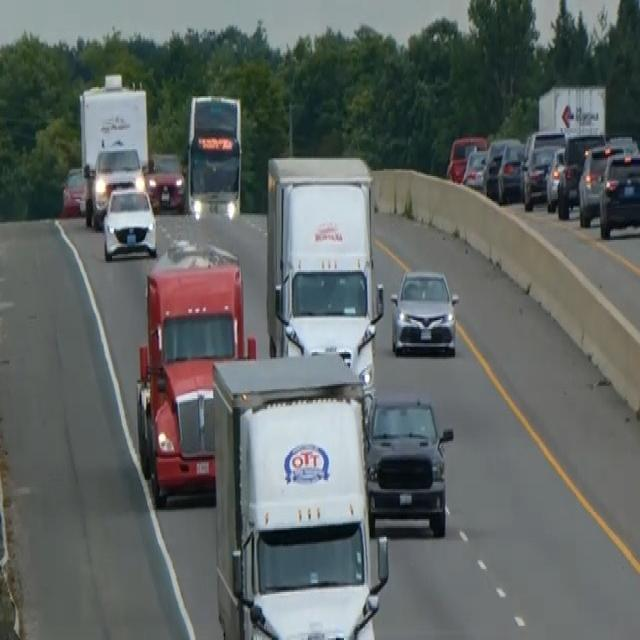bus: (184, 90, 243, 220)
car: (389, 265, 459, 357), (101, 182, 157, 260), (556, 130, 604, 217), (577, 140, 623, 226), (520, 128, 565, 210), (598, 150, 639, 238), (483, 137, 524, 203), (145, 150, 185, 212), (446, 132, 487, 183), (544, 144, 566, 212), (60, 163, 86, 217), (461, 146, 488, 190)
jeep: (363, 391, 454, 539)
lorry: (209, 348, 390, 636), (134, 236, 255, 506), (264, 151, 384, 389)
truck: (85, 142, 145, 226)
